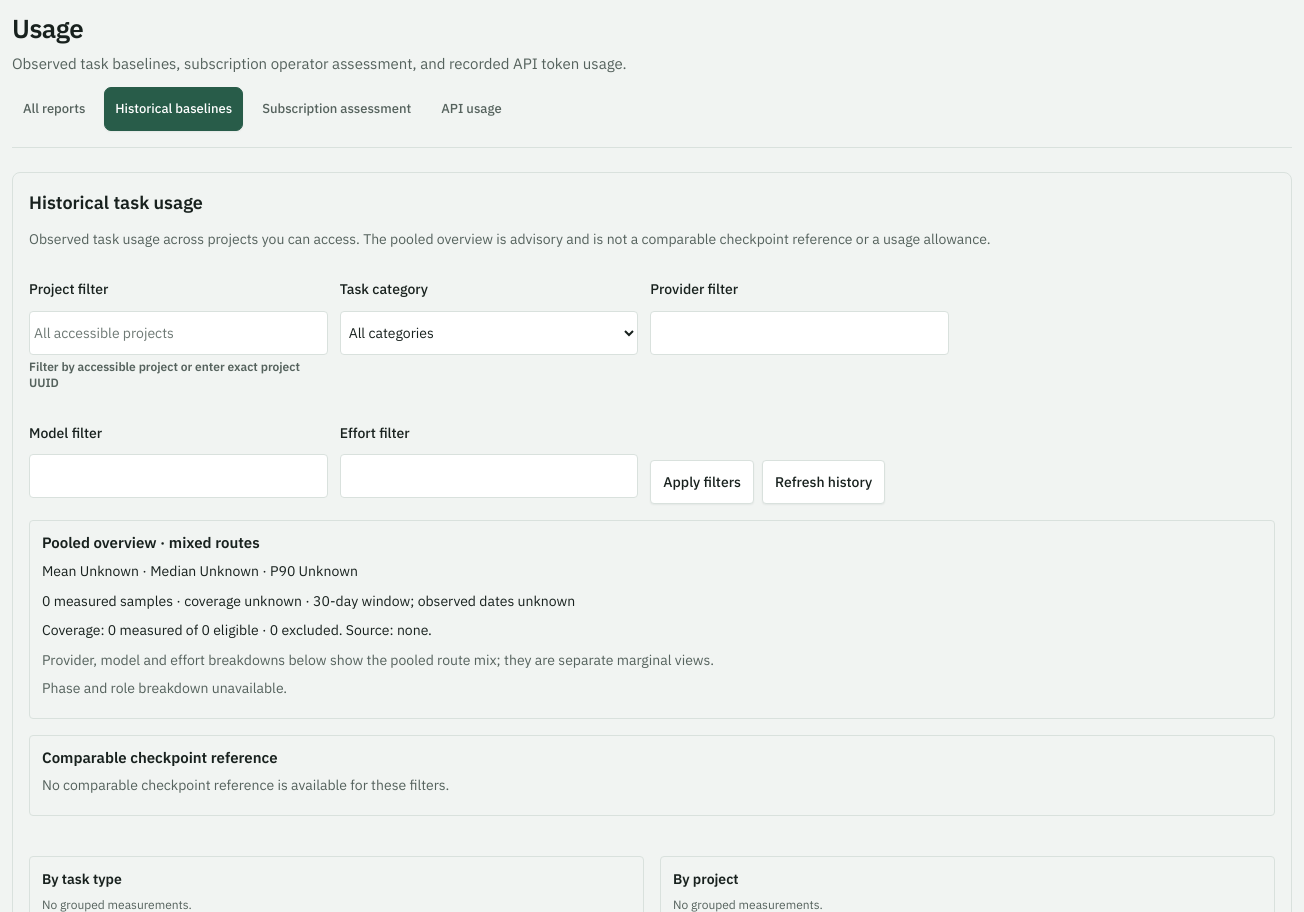
failed usage load exposes retry and clears the error after successful refresh
What coordinates should you click on to do the following:
click the button "API usage"
I would click on:
 (471, 109)
Its box is x1=430 y1=87 x2=513 y2=131.
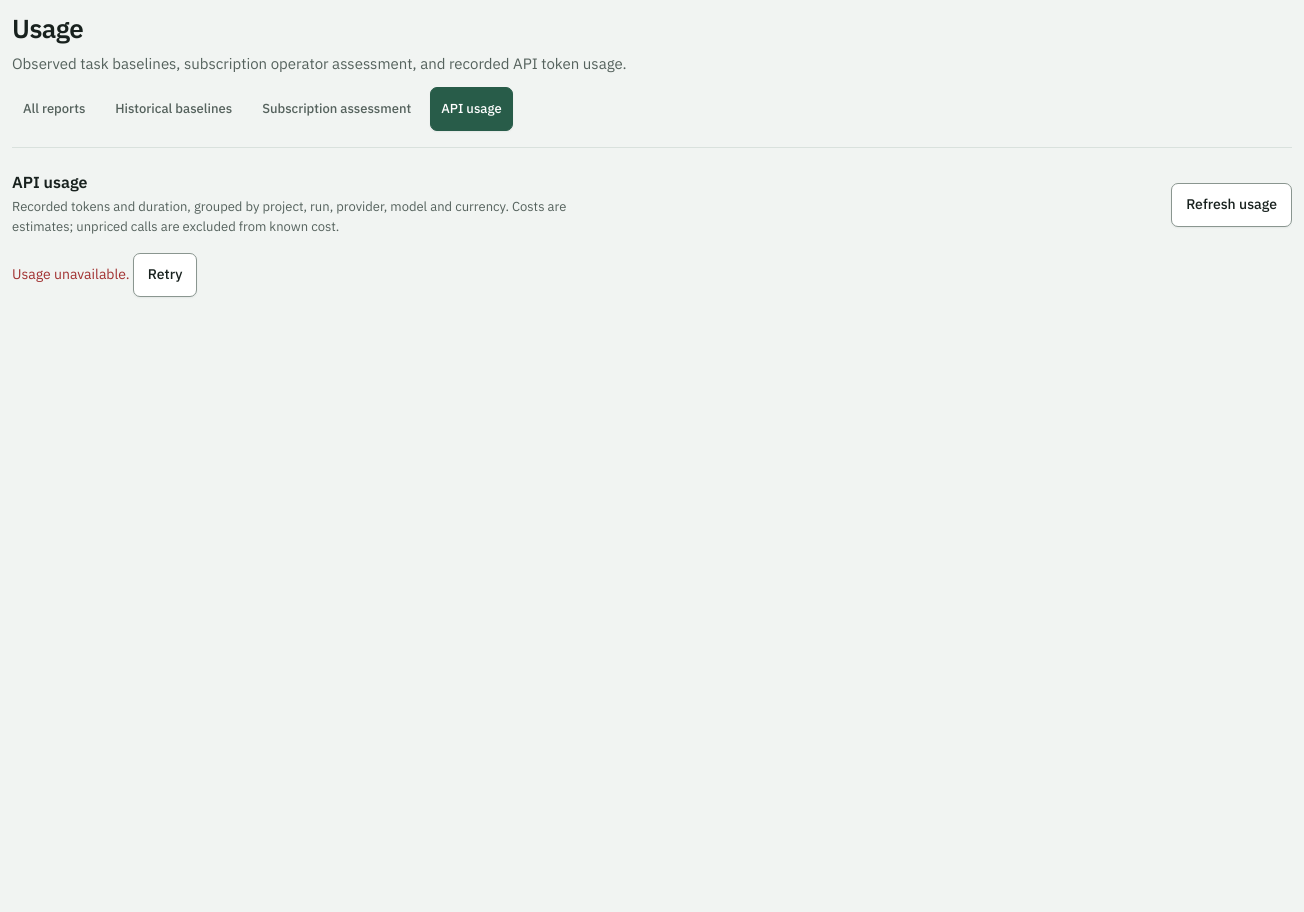
Expected: the message shows "Usage unavailable", x1=12 y1=265 x2=133 y2=283
What coordinates should you click on to do the following:
click the button "Retry"
I would click on:
 (165, 275)
Its box is x1=133 y1=253 x2=197 y2=297.
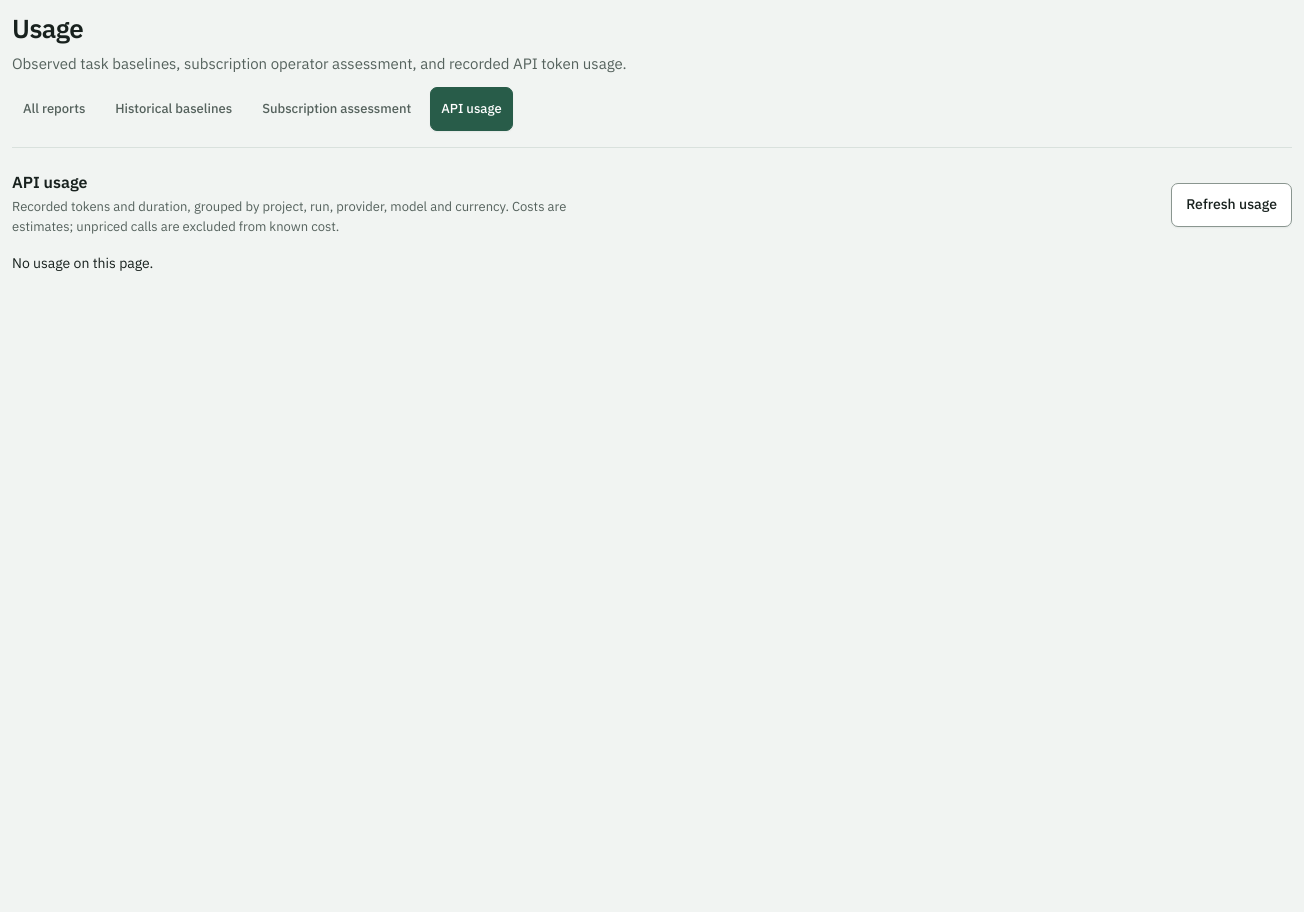
Expected: the text "No usage on this page." is shown, x1=12 y1=254 x2=153 y2=272
Expected: the message "Usage unavailable. Retry" is gone
